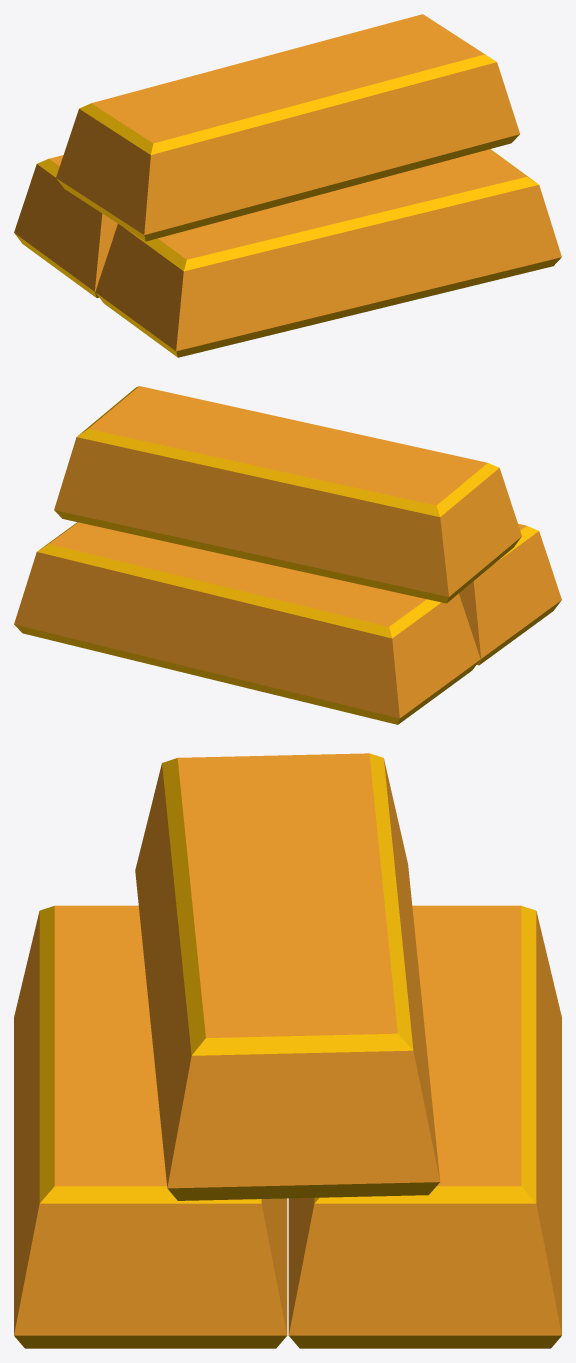
Rendered from SM_Gold_ingots.glb.
3 views of the same model, one above another, from view 1: azimuth 30°, elevation 25°; view 2: azimuth 150°, elevation 25°; view 3: azimuth 270°, elevation 25° (orthographic). The views are drawn at different scales.
Visible parts, largest first — view 1: SM_Gold_ingots; view 2: SM_Gold_ingots; view 3: SM_Gold_ingots.
Boxes of the visible parts, x1,y1,x2,y2 form: SM_Gold_ingots: [14, 14, 561, 357]; SM_Gold_ingots: [14, 386, 561, 724]; SM_Gold_ingots: [14, 753, 561, 1348].
Bounding box in the file's own units: 0.7 × 0.3 × 0.5.
Materials: 1 (1 with a texture image).
